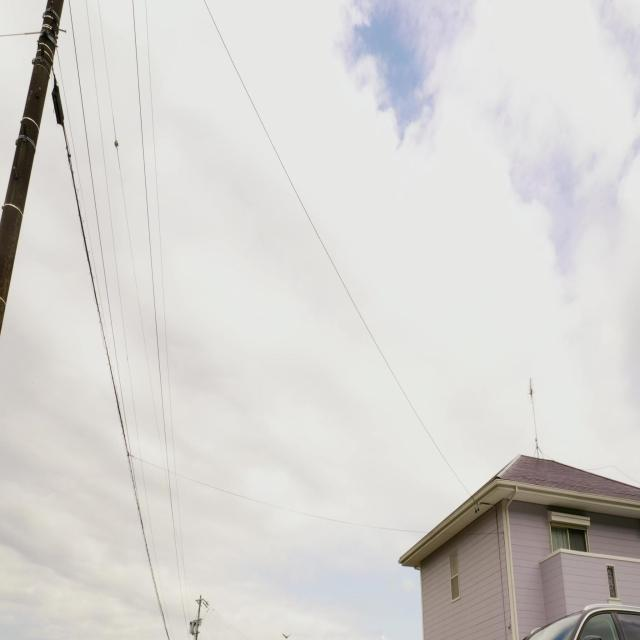Birds: (279, 625, 293, 639)
